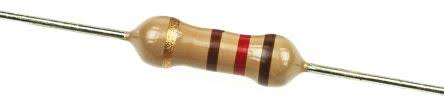resistor: (108, 11, 322, 105)
